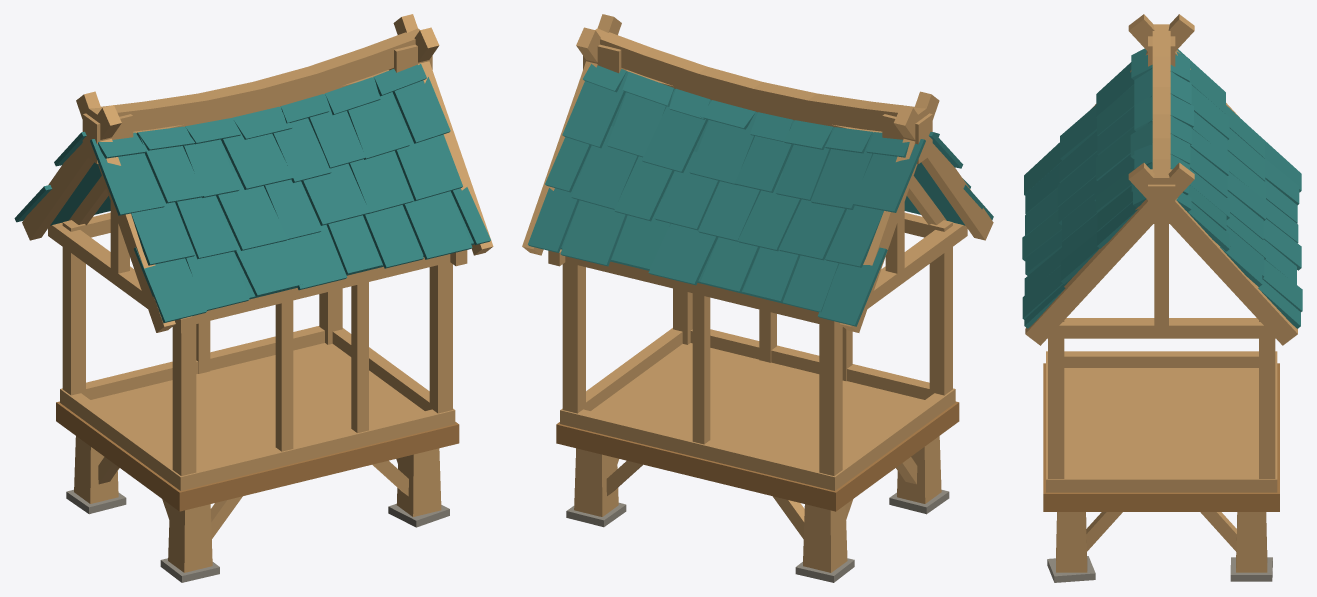
The model's file is chicken-coop-roof.glb.
3 views of the same model, side by side, from view 1: azimuth 30°, elevation 25°; view 2: azimuth 150°, elevation 25°; view 3: azimuth 270°, elevation 25° (orthographic). The views are drawn at different scales.
Parts seen in each view (by area): view 1: roof_shingles, timber_frame, roof_timbers, floor_deck, floor_frame, legs, stone_pads; view 2: roof_shingles, timber_frame, floor_deck, roof_timbers, floor_frame, legs, stone_pads; view 3: roof_shingles, floor_deck, timber_frame, roof_timbers, floor_frame, legs, stone_pads.
Boxes of the visible parts, box(x1,y1,x2,y2) form: roof_shingles: box(14, 64, 490, 323); timber_frame: box(48, 70, 467, 490); roof_timbers: box(22, 14, 493, 332); floor_deck: box(91, 343, 424, 466); floor_frame: box(56, 401, 459, 511); legs: box(74, 436, 441, 572); stone_pads: box(66, 489, 449, 582); roof_shingles: box(528, 64, 993, 326); timber_frame: box(548, 70, 967, 490); floor_deck: box(591, 343, 924, 466); roof_timbers: box(522, 14, 993, 332); floor_frame: box(556, 401, 959, 511); legs: box(574, 436, 941, 572); stone_pads: box(566, 490, 949, 582); roof_shingles: box(1022, 48, 1302, 328); floor_deck: box(1064, 368, 1258, 474); timber_frame: box(1046, 224, 1277, 492); roof_timbers: box(1025, 14, 1297, 345); floor_frame: box(1043, 363, 1279, 511); legs: box(1056, 512, 1267, 572); stone_pads: box(1047, 556, 1272, 582).
Bounding box in the file's own units: 2.06 × 2.6 × 1.54.
